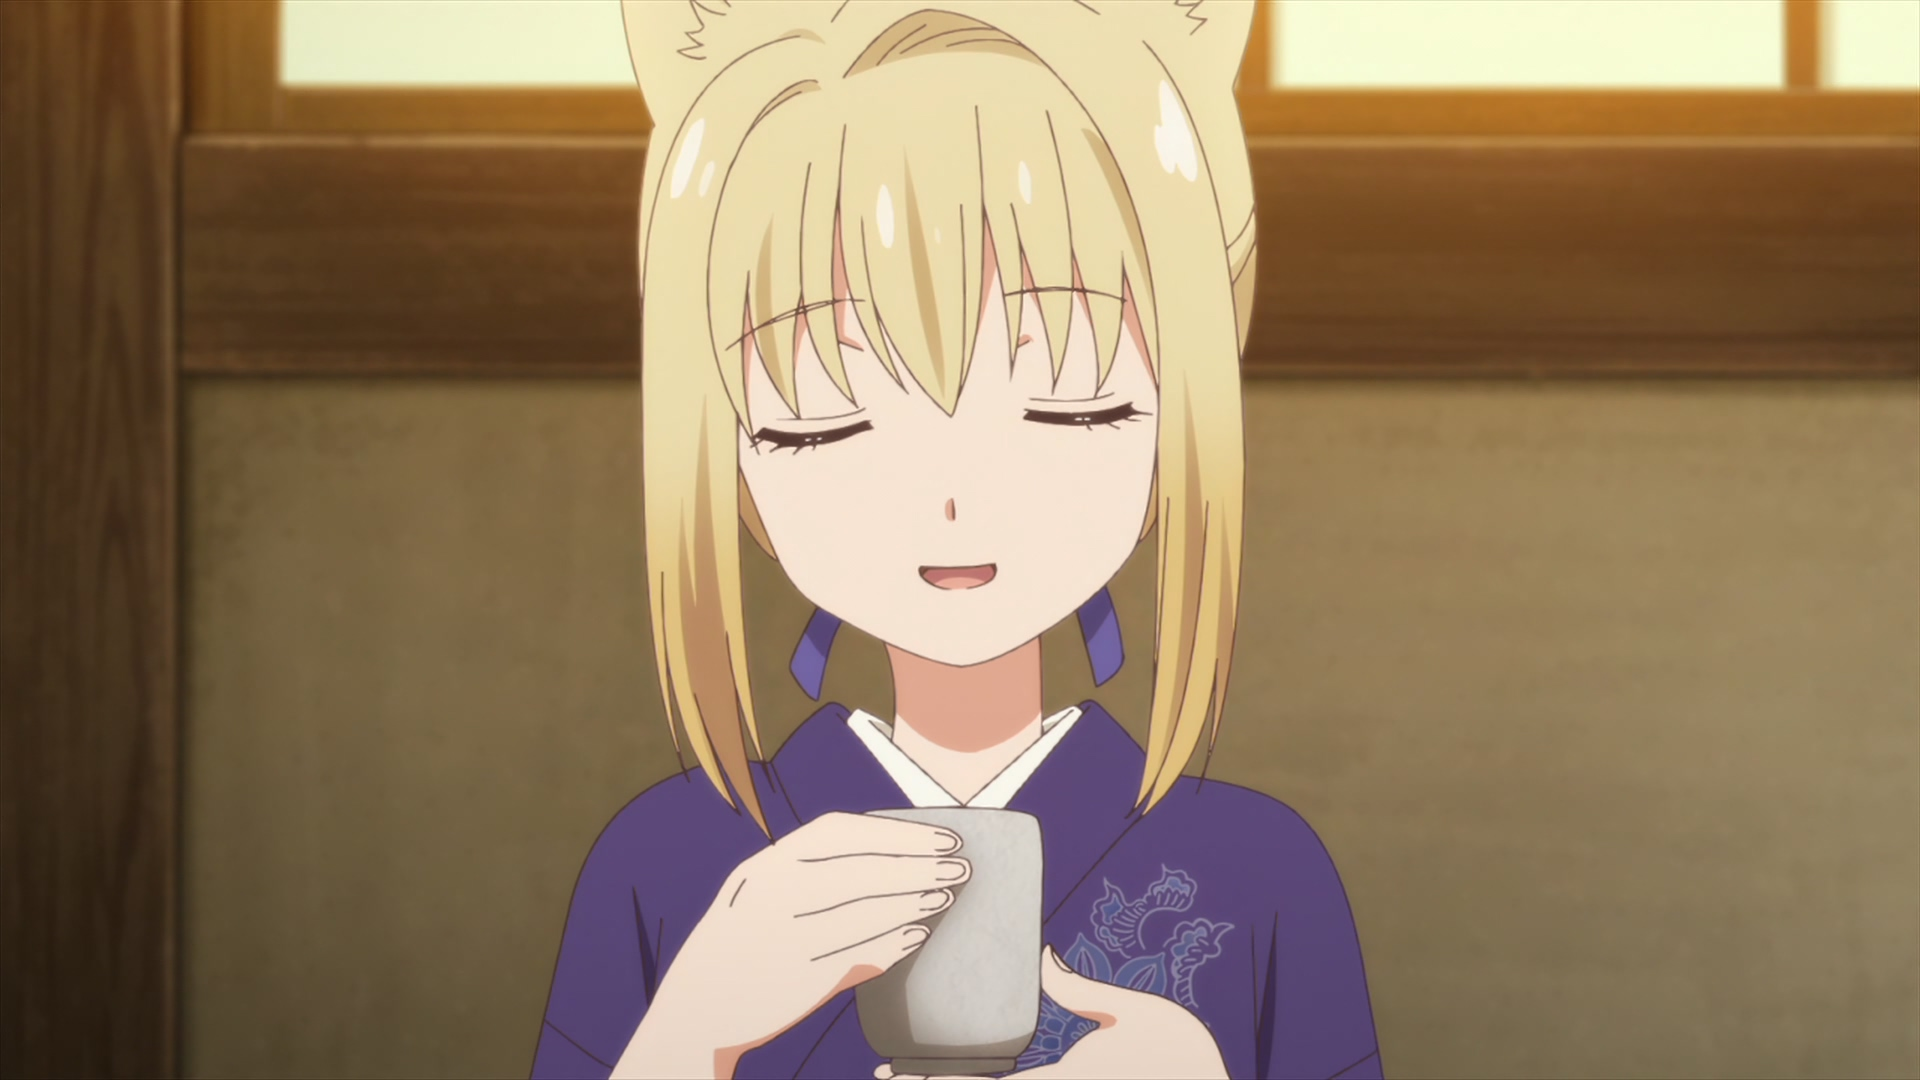桐: (527, 1, 1386, 1080)
